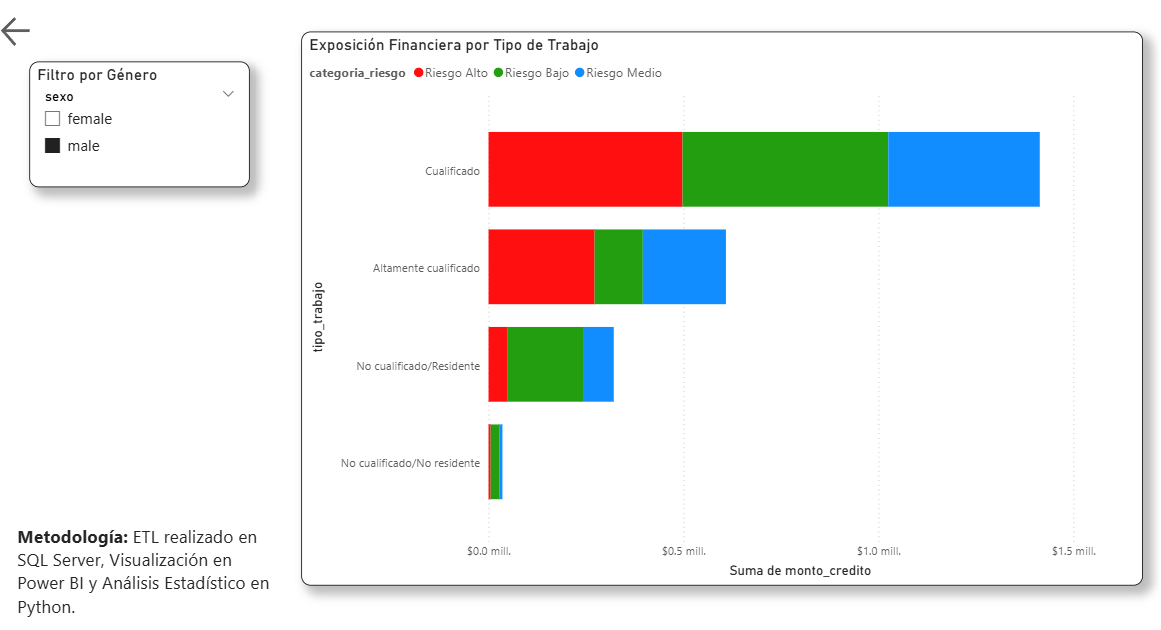

What the dashboard file says about the page in this screenshot:
{"tool":"powerbi","page":{"name":"Página 2","canvas":[1280,720],"ordinal":1},"visuals":[{"type":"barChart","title":"Exposición Financiera por Tipo de Trabajo","fields":{"Category":["vista_analisis_riesgo.tipo_trabajo"],"Y":["Sum(vista_analisis_riesgo.monto_credito)"],"Series":["vista_analisis_riesgo.categoria_riesgo"]},"box":[324.4,42.3,899.3,591.5],"z":0},{"type":"slicer","title":"Filtro por Género","fields":{"Values":["vista_analisis_riesgo.sexo"]},"box":[34.7,73.9,235.4,134.3],"z":1},{"type":"actionButton","box":[0,21.1,99.6,40.7],"z":2},{"type":"textbox","box":[16.6,562.8,286.7,143.3],"z":3}]}

Visuals, with their boxes on the page's 1280x720 design canvas (x1, y1, x2, y2). These are canvas units, not pixel positions in the 1161x630 screenshot, which may show the page scaled, cropped or inside an application window:
"Exposición Financiera por Tipo de Trabajo" barChart: (left=324, top=42, right=1224, bottom=634)
"Filtro por Género" slicer: (left=35, top=74, right=270, bottom=208)
actionButton: (left=0, top=21, right=100, bottom=62)
textbox: (left=17, top=563, right=303, bottom=706)
